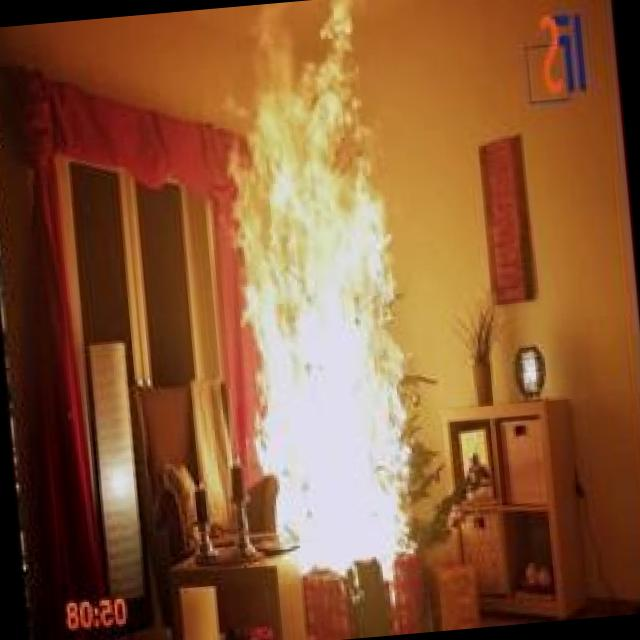fire: (192, 0, 463, 597)
